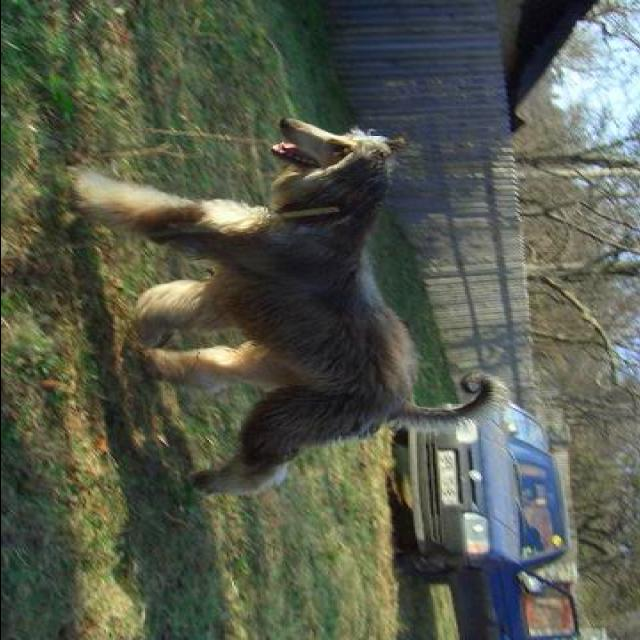afghan_hound: (67, 118, 505, 492)
